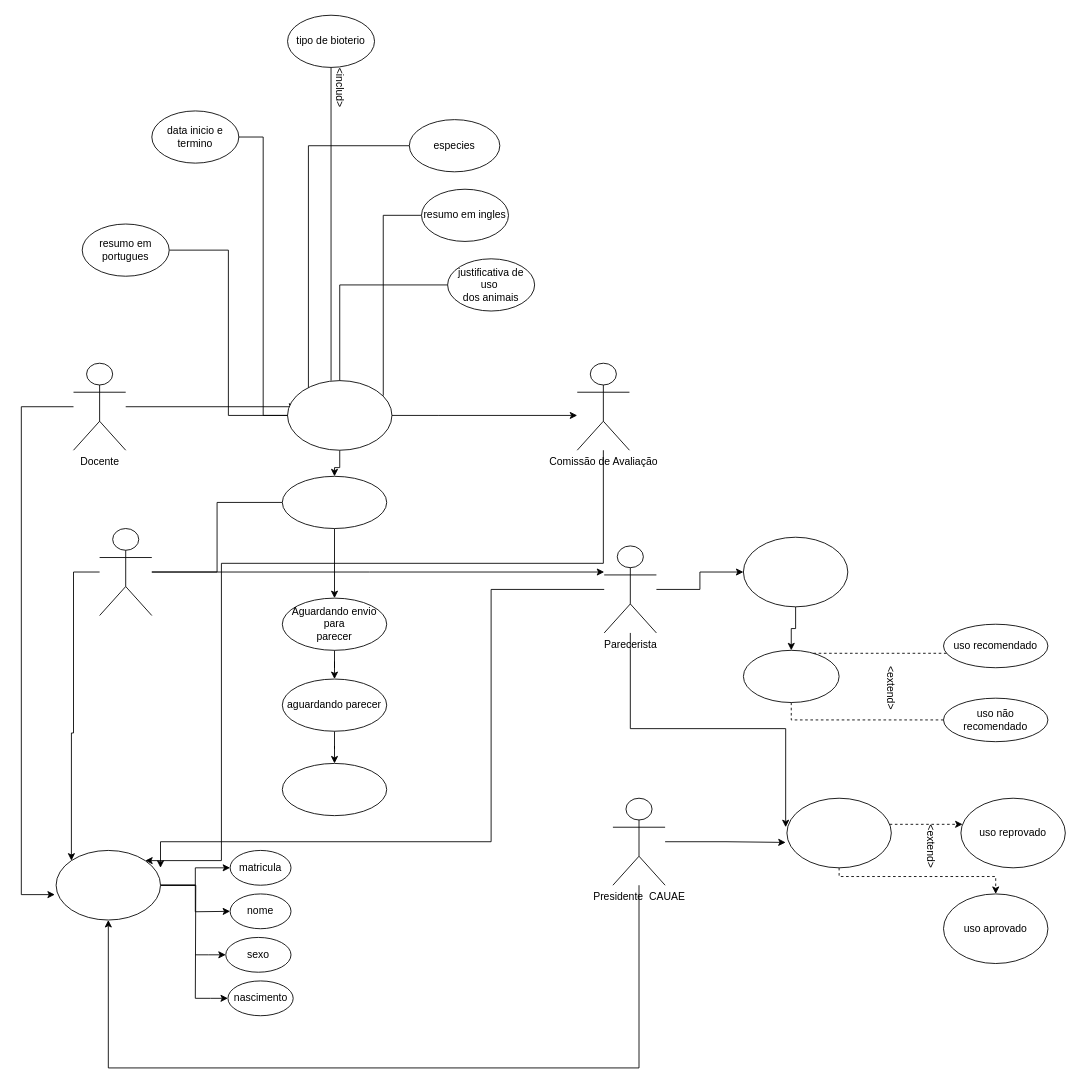
Some shapes in this 1081 by 1090 pixel diagram are drawn without their labels. The centre of each missing label's shape, as x and y in pixels:
aguardando aprovação: (x=334, y=789)
Analise de protocolo: (x=838, y=832)
Cadastro: (x=108, y=885)
descrever parecer: (x=791, y=676)
emitir parecer: (x=795, y=571)
Emitir Protocolo Eletrônico: (x=339, y=415)
protocolo emitido: (x=334, y=502)
Secretaria CAUAE: (x=125, y=572)
